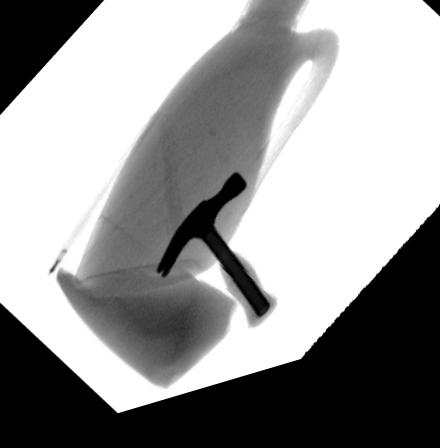Hammer: (155, 183, 278, 342)
